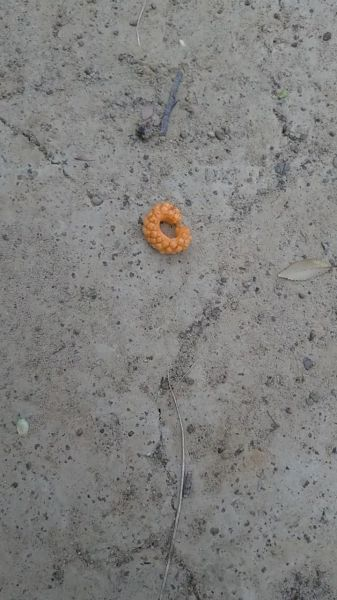eggs: (137, 194, 194, 256)
